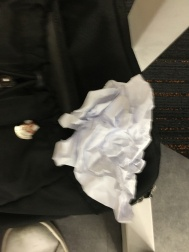paper_white: (35, 66, 167, 229)
